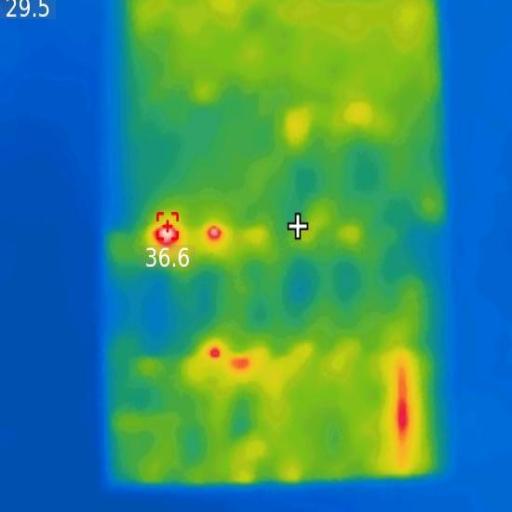hotspot: (149, 223, 184, 250), (396, 392, 410, 449), (203, 225, 229, 241), (210, 348, 224, 360)
